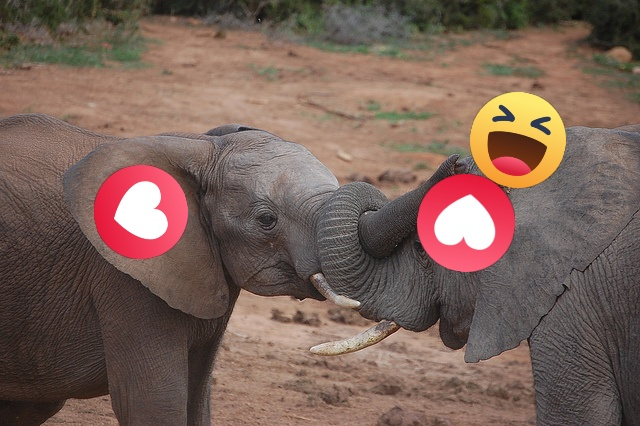haha: (470, 92, 566, 188)
love: (417, 174, 515, 272), (94, 165, 188, 259)
